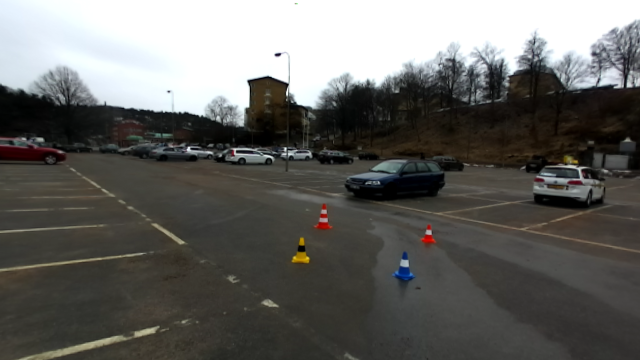blue: (391, 249, 416, 281)
orange2: (313, 203, 334, 231)
yellow: (291, 234, 311, 266)
